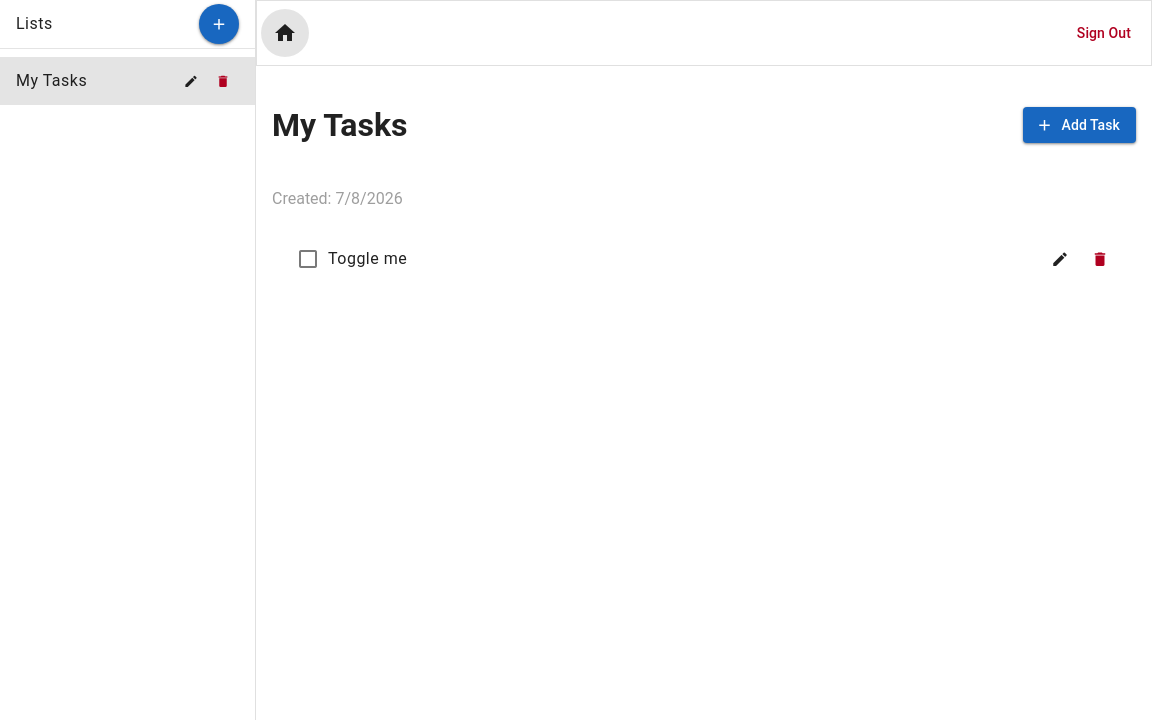
it: ListsView › shows toggle error when toggleComplete fails
The width and height of the screenshot is (1152, 720).
Click the checkbox at (308, 259), box [288,239,328,279]
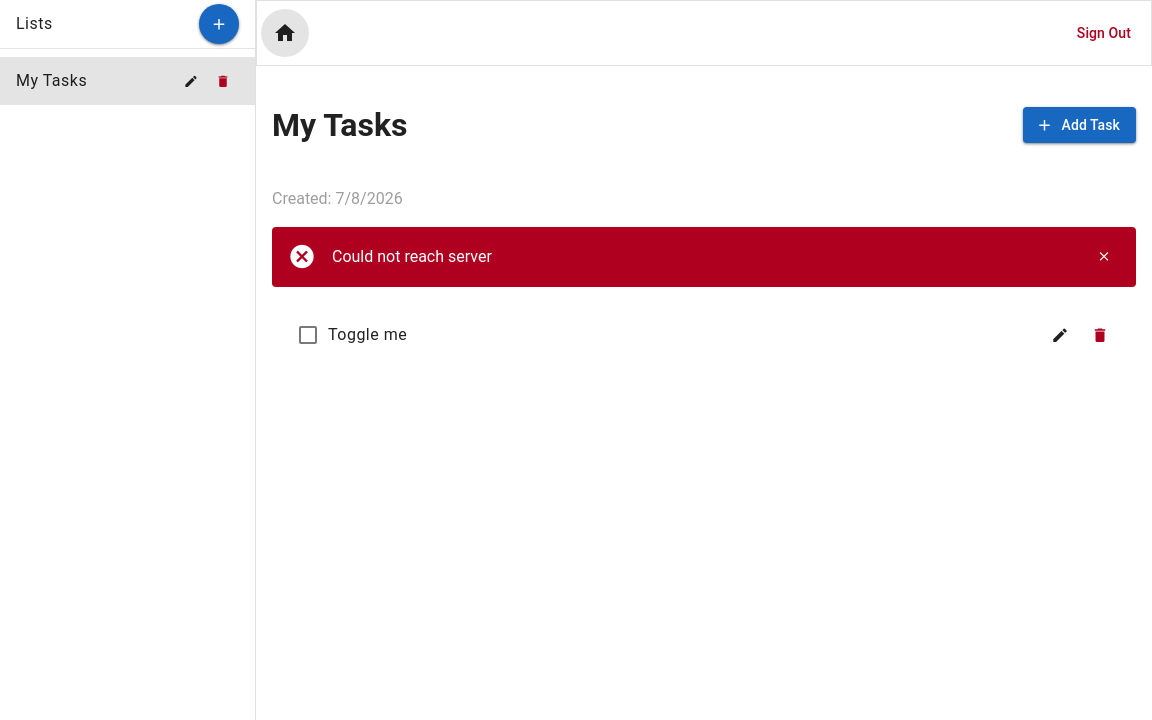
Check: the text "Could not reach server" is shown, box [332,247,492,266]
